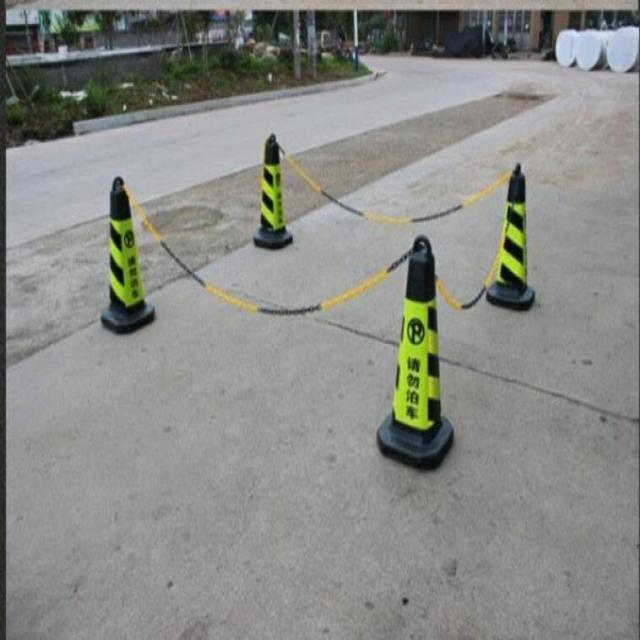reflective_cone: (373, 232, 457, 466), (98, 176, 156, 334), (486, 163, 536, 310), (248, 131, 295, 248)
